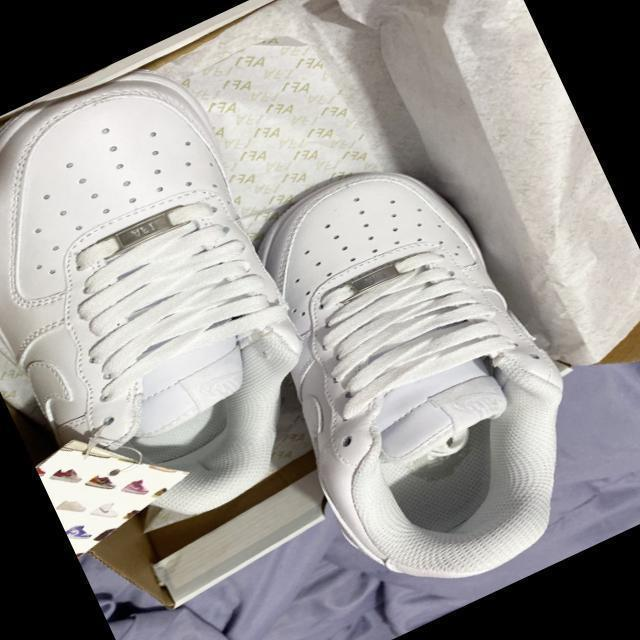nike original air force: (194, 120, 634, 629), (0, 38, 364, 569)
